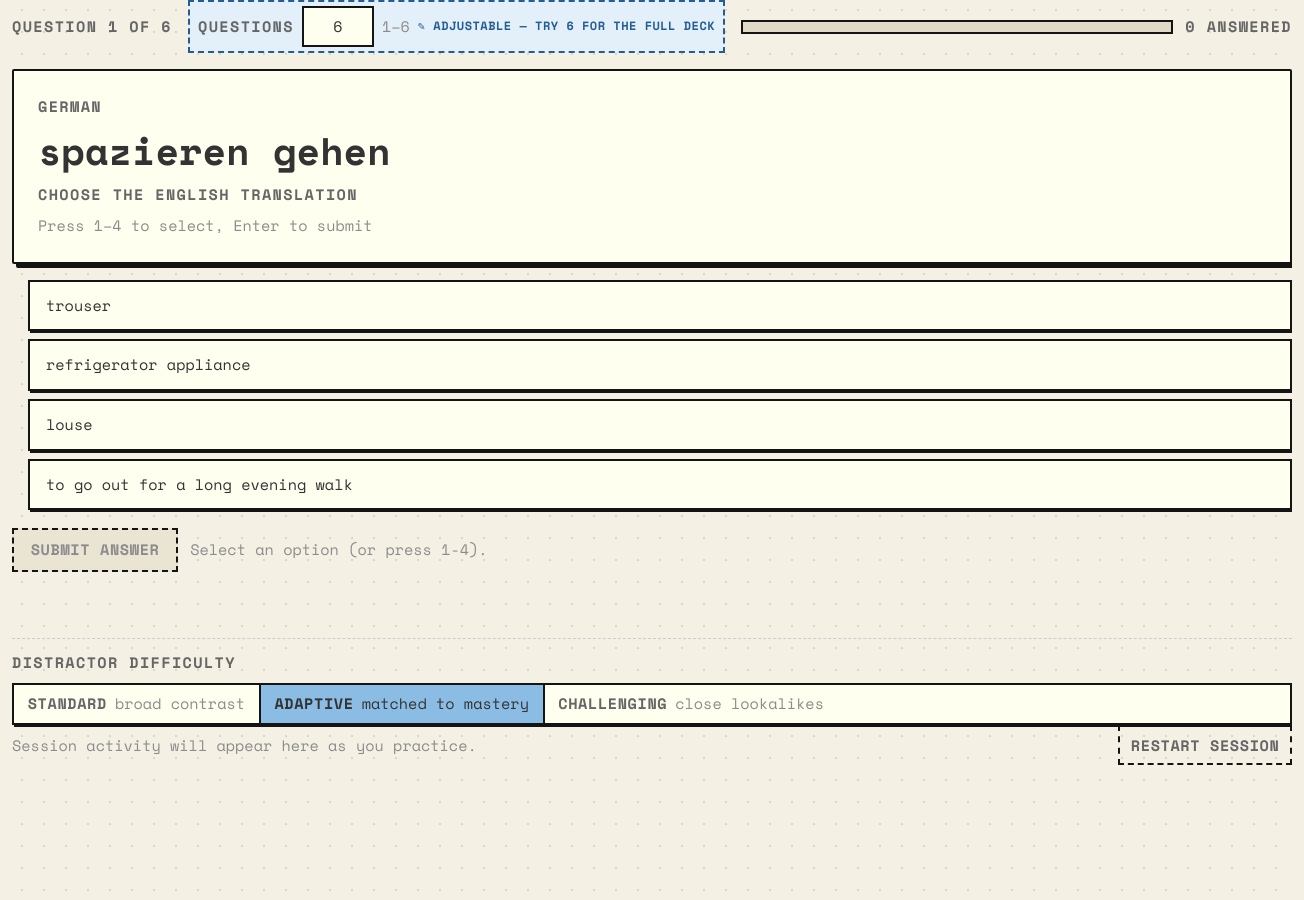
Test case: QuizMode smart distractors & confusion engine › shows diagnostic confusion insight only after wrong submission and keeps session in memory
Expected: the text "You chose" is not shown
Click the button "trouser".
click(79, 305)  # box [28, 280, 1292, 332]
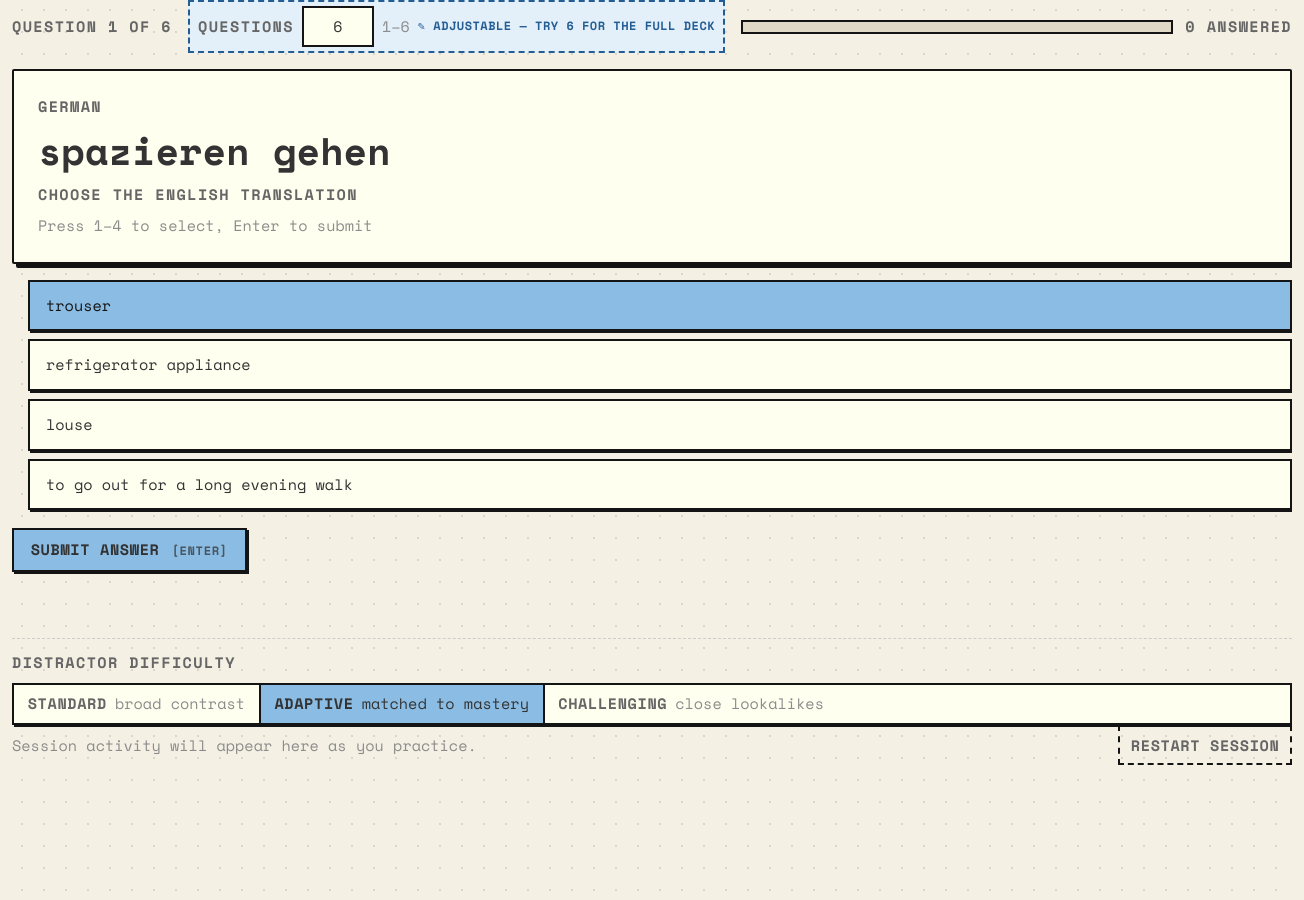
Click the button "Submit answer [Enter]".
click(129, 550)  # box [12, 528, 246, 572]
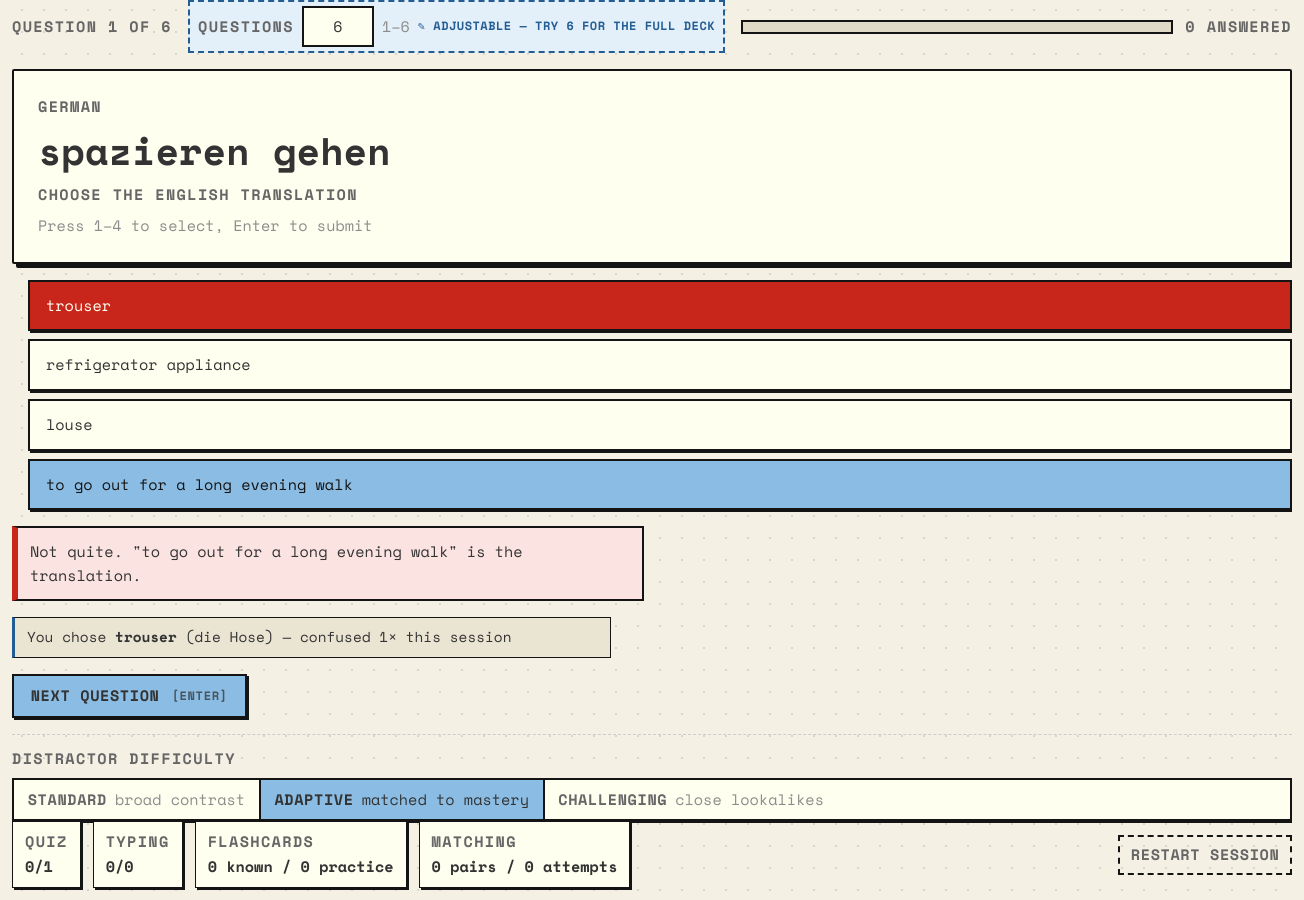
Now the text "You chose trouser (die Hose) — confused 1× this session" is shown, box [12, 617, 611, 658]
